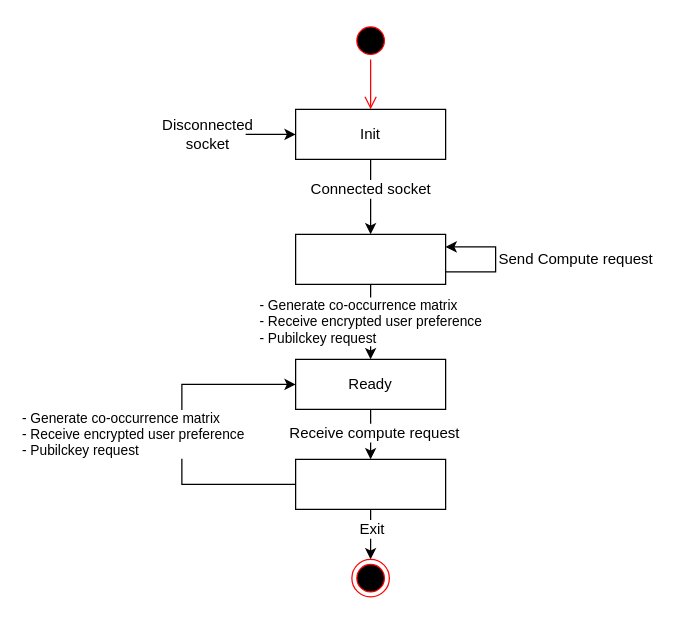
Some shapes in this 678 by 619 pixel diagram are drawn without their labels. Each missing label, with the centre of its shape:
Computed: the point at 370,483
Connected: the point at 370,258
